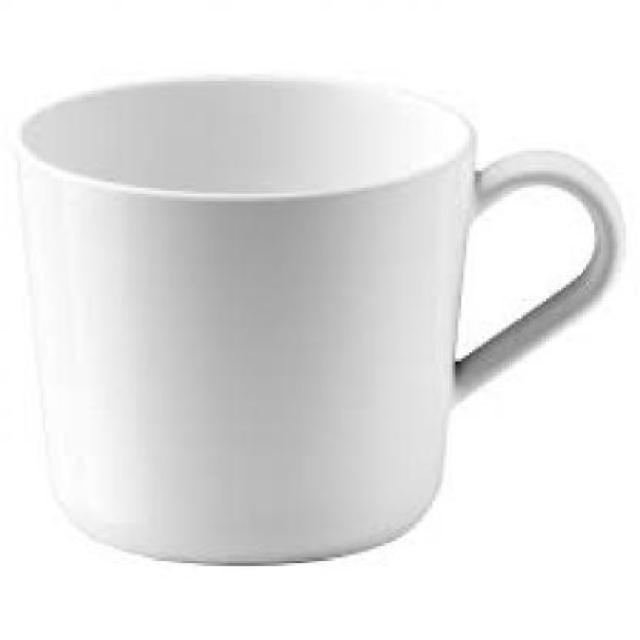cup: (9, 71, 629, 572)
